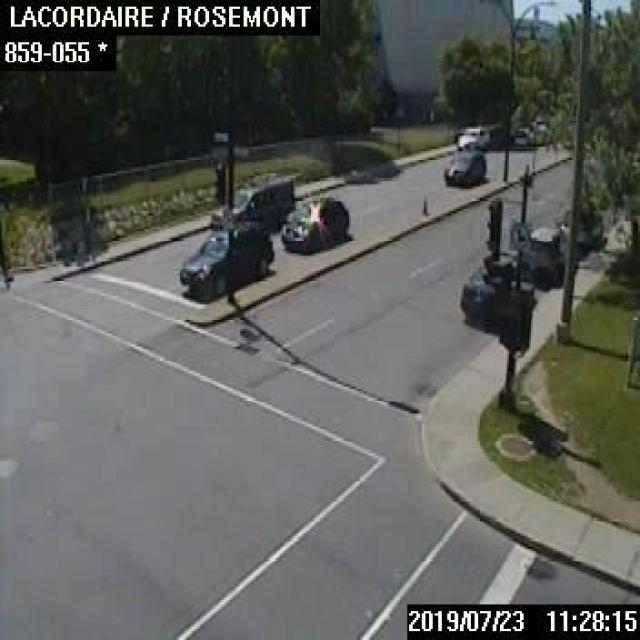vehicle: (177, 222, 273, 296), (458, 254, 534, 323), (208, 176, 292, 231), (280, 195, 348, 249), (519, 225, 564, 282), (442, 150, 484, 183), (457, 126, 487, 149)
